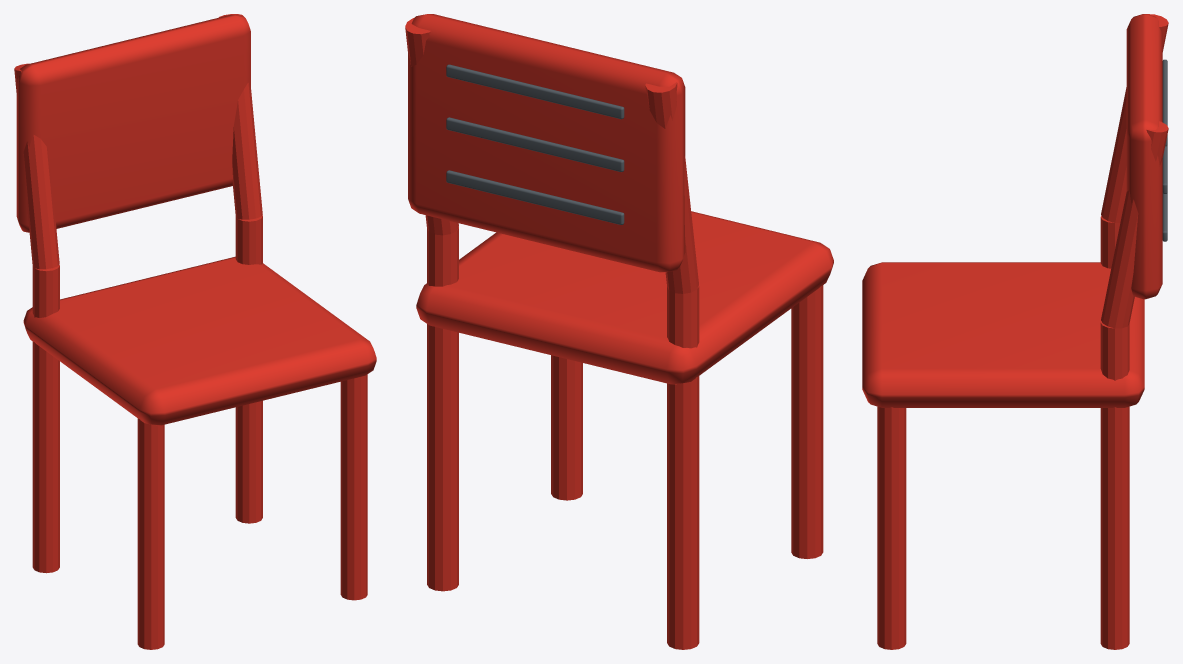
File: plastic_chair_plastic_red.glb
3 renders of one model, left to right at view 1: azimuth 30°, elevation 25°; view 2: azimuth 150°, elevation 25°; view 3: azimuth 270°, elevation 25°, orthographic. The views are drawn at different scales.
Parts seen in each view (by area): view 1: seat, backrest, rear leg, front leg, front leg.001, rear leg.001, back upright, back upright.001; view 2: backrest, seat, rear leg, rear leg.001, front leg, front leg.001, back upright, back slot.002, back slot, back slot.001, back upright.001; view 3: seat, backrest, rear leg.001, front leg.001, back upright.001, back upright, rear leg.
Boxes of the visible parts, x1,y1,x2,y2 form: seat: [23, 256, 376, 425]; backrest: [16, 15, 250, 232]; rear leg: [32, 265, 59, 573]; front leg: [137, 418, 164, 649]; front leg.001: [340, 374, 367, 600]; rear leg.001: [235, 215, 262, 523]; back upright: [14, 63, 59, 269]; back upright.001: [219, 14, 262, 219]; backrest: [408, 14, 685, 272]; seat: [416, 211, 833, 384]; rear leg: [667, 286, 699, 649]; rear leg.001: [427, 227, 458, 591]; front leg: [791, 285, 823, 558]; front leg.001: [551, 355, 582, 500]; back upright: [645, 82, 698, 293]; back slot.002: [446, 64, 624, 119]; back slot: [446, 170, 624, 224]; back slot.001: [446, 117, 624, 171]; back upright.001: [405, 18, 458, 235]; seat: [862, 262, 1144, 407]; backrest: [1126, 14, 1162, 299]; rear leg.001: [1100, 321, 1129, 649]; front leg.001: [877, 406, 906, 649]; back upright.001: [1101, 121, 1168, 328]; back upright: [1101, 14, 1168, 222]; rear leg: [1100, 216, 1120, 268].
Size of the model in its own units: 0.44 by 0.88 by 0.4666.
